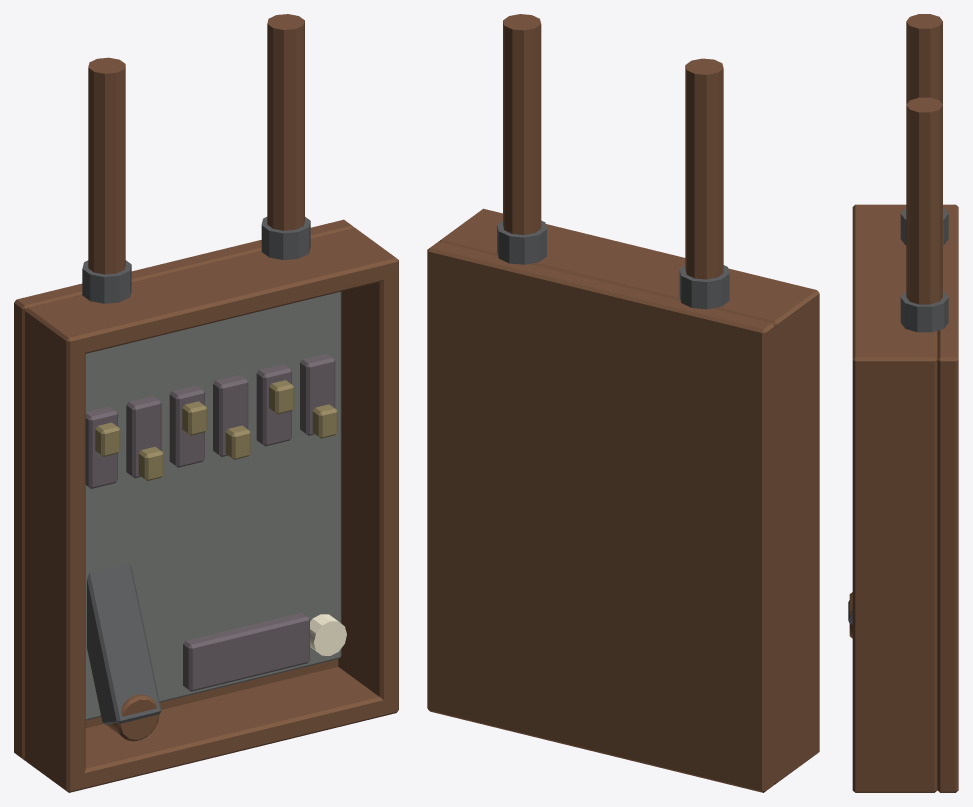
The model's file is ElectricalPanel.fbx.
The picture shows the model from 3 angles, left to right: view 1: azimuth 30°, elevation 25°; view 2: azimuth 150°, elevation 25°; view 3: azimuth 270°, elevation 25°; orthographic projection. The views are drawn at different scales.
Parts seen in each view (by area): view 1: ElectricalPanel; view 2: ElectricalPanel; view 3: ElectricalPanel.
Part boxes in pixels (x1,y1,x2,y2): ElectricalPanel: (14, 14, 398, 792); ElectricalPanel: (427, 14, 819, 792); ElectricalPanel: (848, 14, 958, 792).
Size of the model in its own units: 52 by 102 by 15.6.
